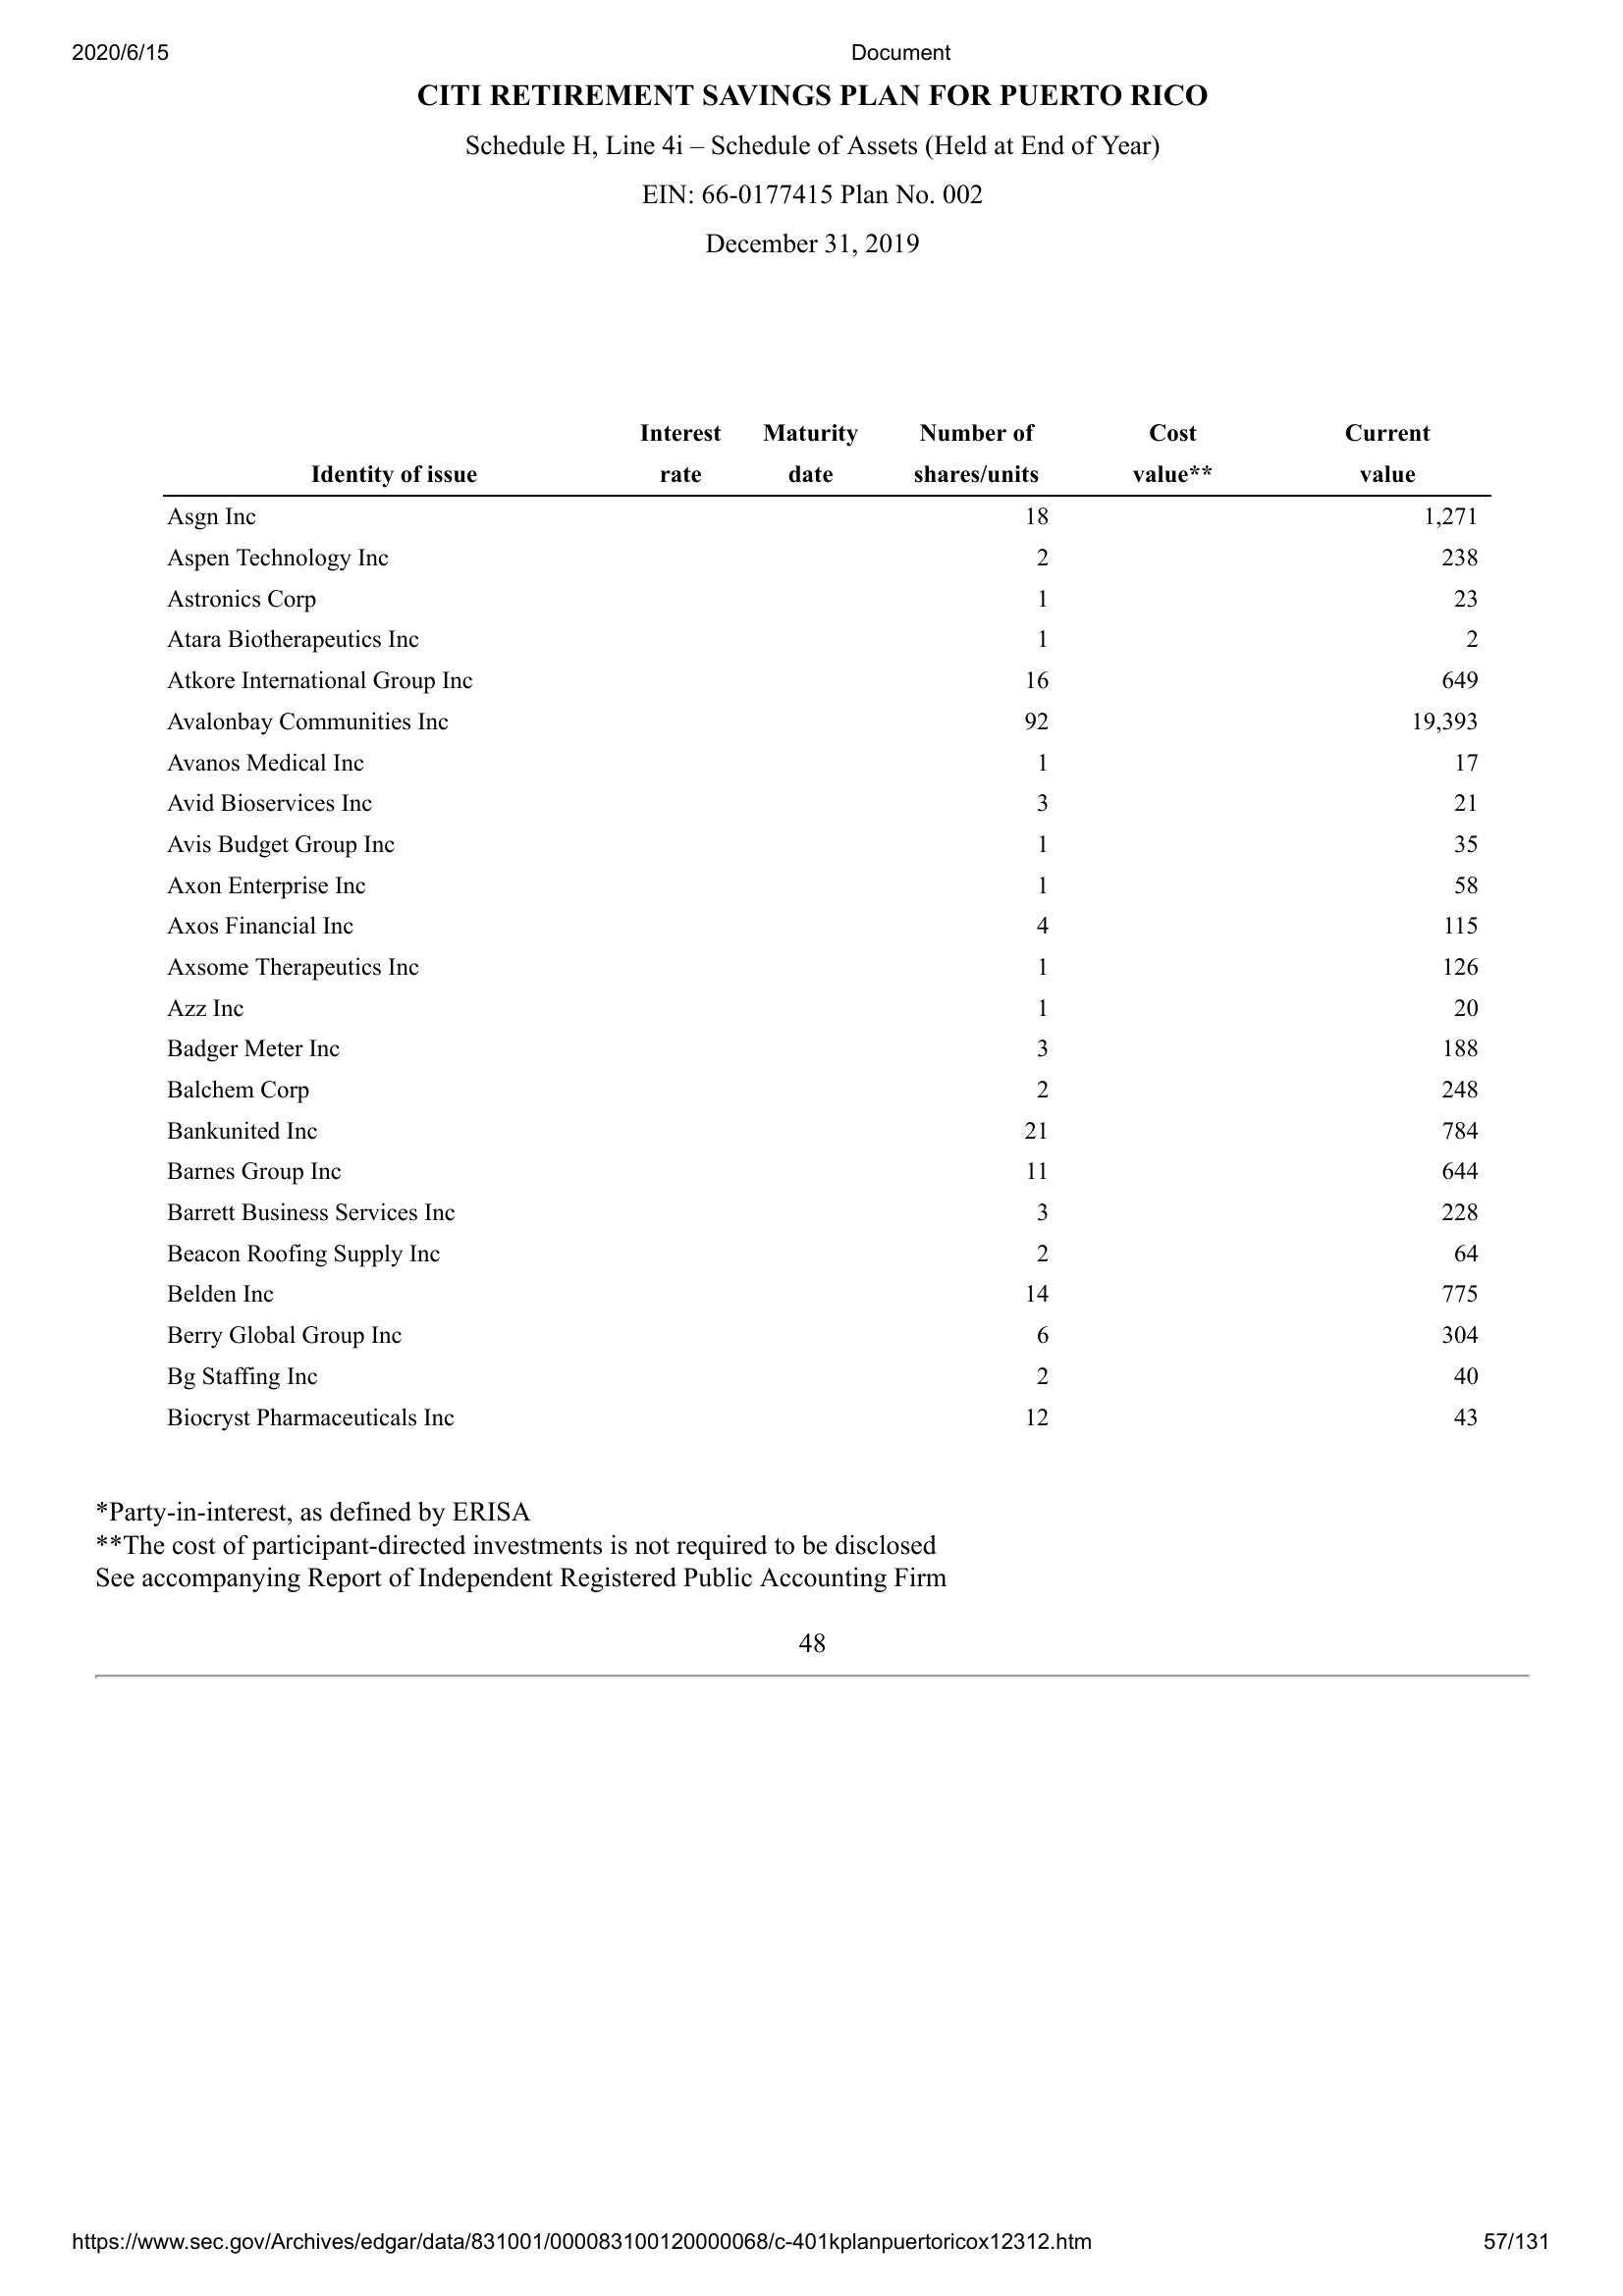table: (162, 420, 1488, 1450)
